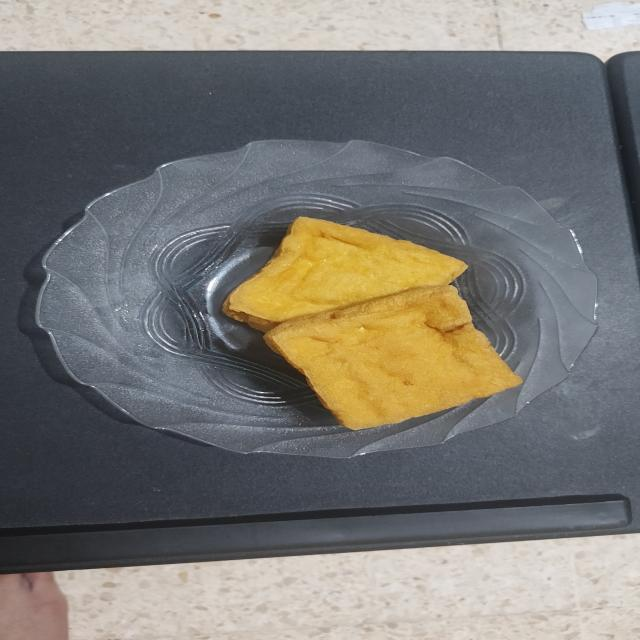tahu_goreng: (264, 285, 522, 430), (223, 217, 467, 332)
